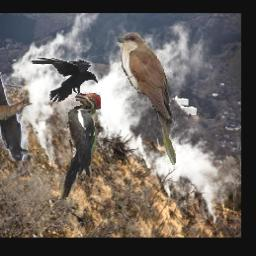Crow: (31, 56, 98, 102), (0, 75, 28, 162)
Cuckoo: (117, 33, 176, 166)
Woodpecker: (61, 93, 101, 201)
